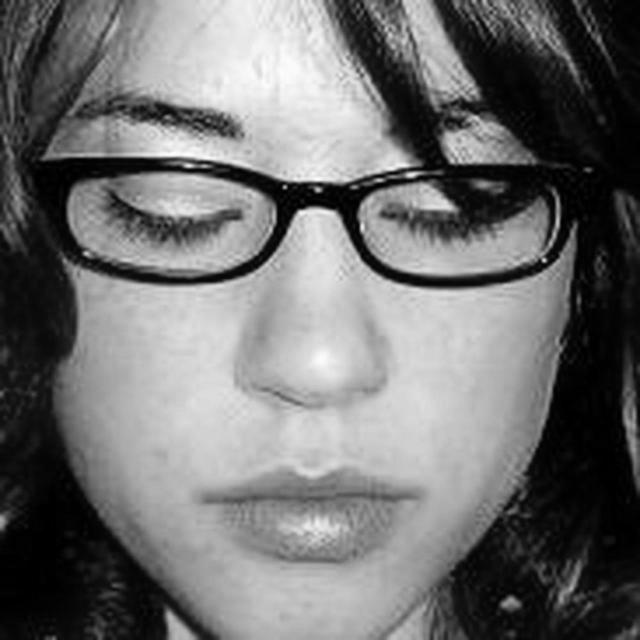real: (56, 0, 575, 640), (84, 145, 528, 258)
